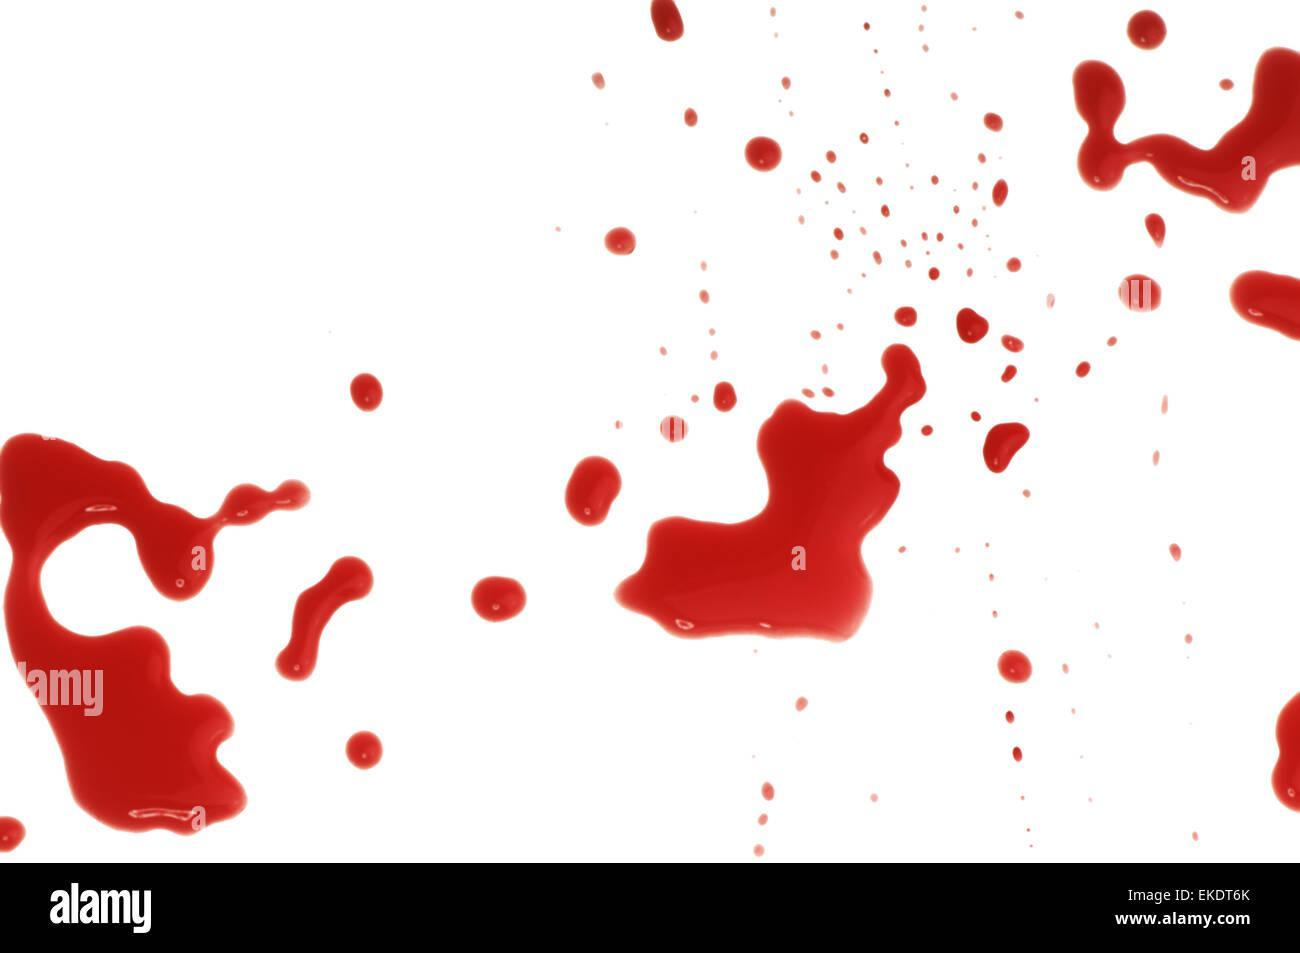Fire: (1, 432, 310, 835), (613, 343, 926, 642), (1071, 46, 1299, 213), (275, 554, 373, 681), (1228, 269, 1298, 339), (564, 454, 622, 526), (471, 575, 527, 623), (982, 422, 1030, 473), (1126, 9, 1166, 50), (345, 729, 383, 770), (650, 0, 684, 41), (744, 135, 782, 171), (349, 373, 383, 412), (955, 307, 989, 343), (997, 649, 1032, 683), (0, 815, 26, 853), (603, 226, 636, 255), (1143, 212, 1166, 247), (713, 380, 737, 412), (893, 306, 917, 327)
